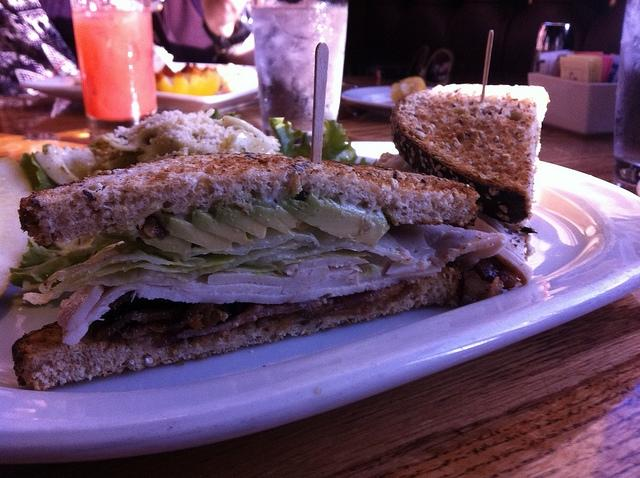avocado: (281, 193, 389, 244), (153, 212, 233, 249), (192, 210, 254, 245), (212, 202, 268, 238), (116, 237, 174, 262), (141, 234, 192, 254), (248, 212, 291, 234), (276, 205, 298, 228)
lettuce: (10, 251, 95, 288), (268, 117, 311, 158)
